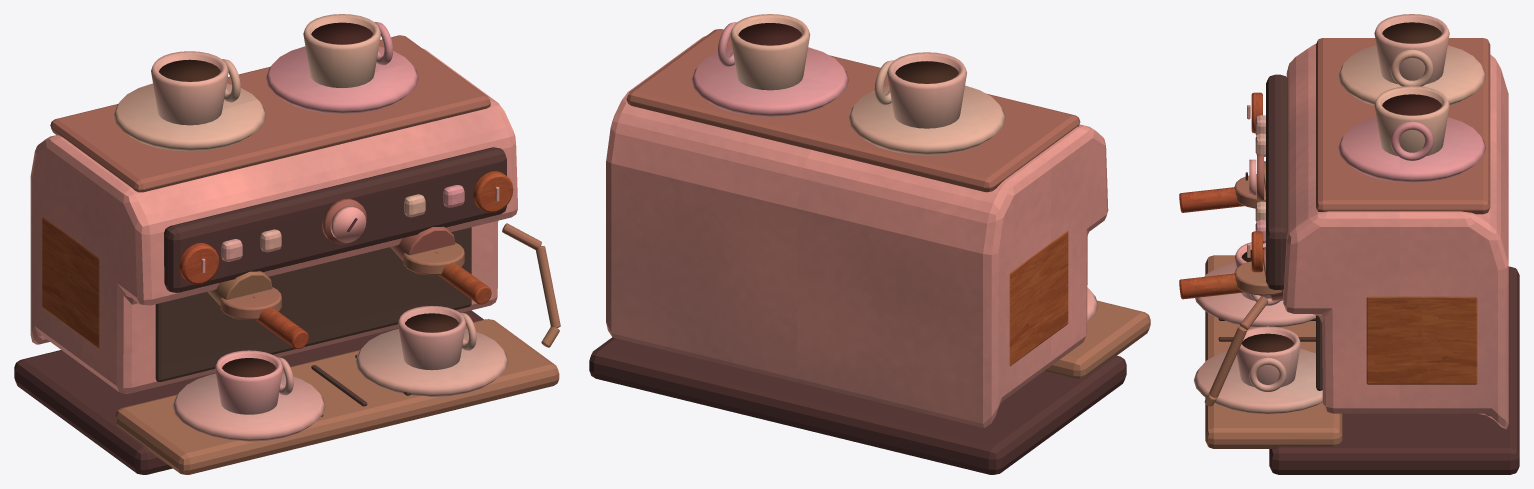
File: WC_CAFE_Espresso_A.glb
3 views of the same model, side by side, from view 1: azimuth 30°, elevation 25°; view 2: azimuth 150°, elevation 25°; view 3: azimuth 270°, elevation 25° (orthographic). The views are drawn at different scales.
Parts seen in each view (by area): view 1: WC_CAFE_Espresso_A_DesignedMesh; view 2: WC_CAFE_Espresso_A_DesignedMesh; view 3: WC_CAFE_Espresso_A_DesignedMesh.
Part boxes in pixels (box(x1,y1,x2,y2)): WC_CAFE_Espresso_A_DesignedMesh: box(14, 14, 560, 474); WC_CAFE_Espresso_A_DesignedMesh: box(589, 14, 1150, 474); WC_CAFE_Espresso_A_DesignedMesh: box(1179, 14, 1519, 474).
Size of the model in its own units: 0.893 by 0.7032 by 0.68.
Materials: 8 (4 with a texture image).
